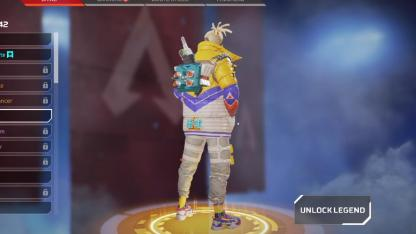Target: (172, 17, 242, 189)
